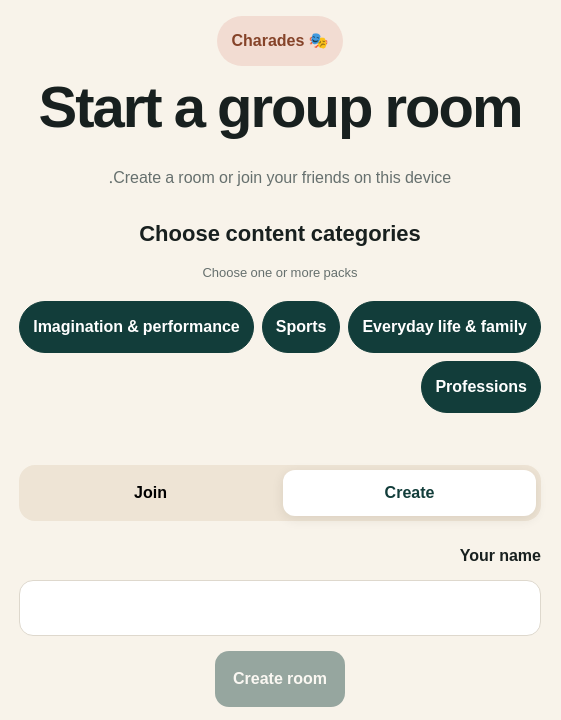
RoomLobby › prevents duplicate submissions and ignores late responses
Type "Host" into the field labelled "Your name" at {"x": 280, "y": 608}, box [19, 580, 541, 636]
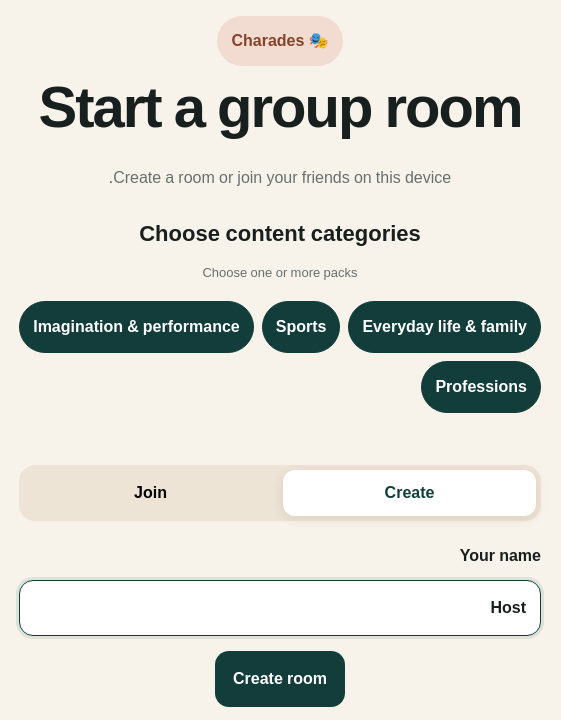
Double-click the button "Create room" at {"x": 280, "y": 680}, box [215, 652, 345, 708]
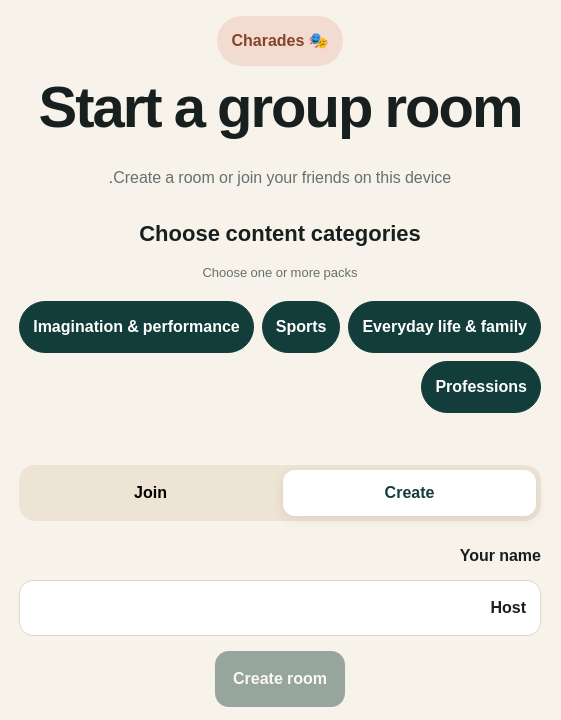
Expected: the button "Create room" is disabled, [215, 652, 345, 708]
